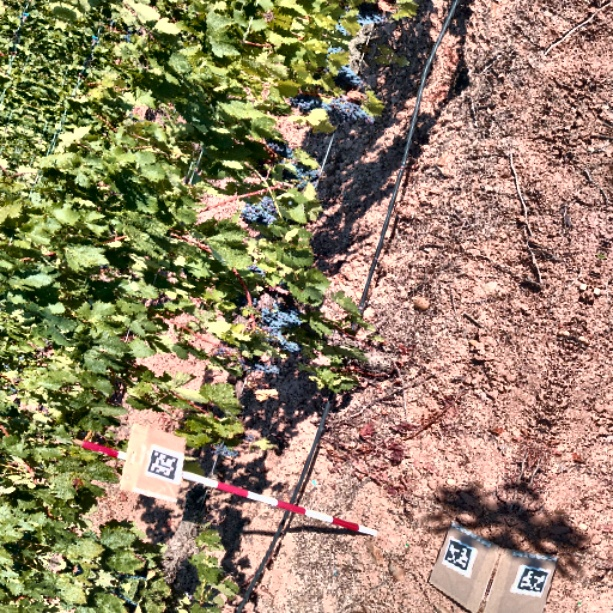QR: (441, 538, 475, 572), (148, 449, 179, 479)
